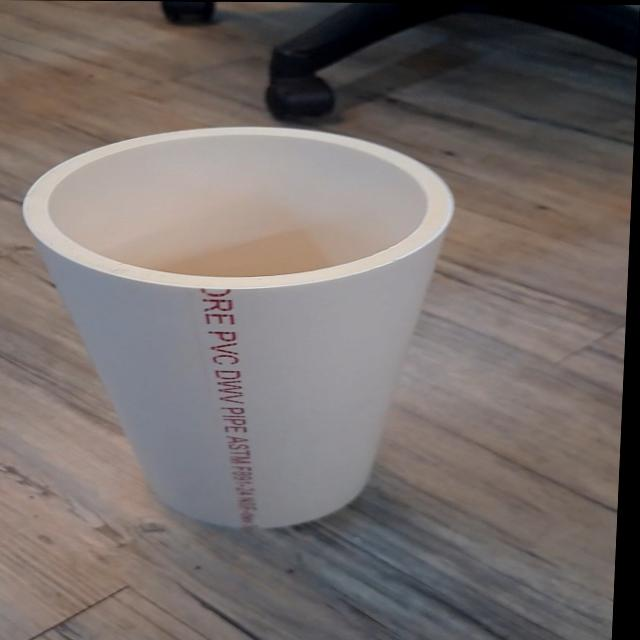CORAL: (1, 129, 508, 534)
